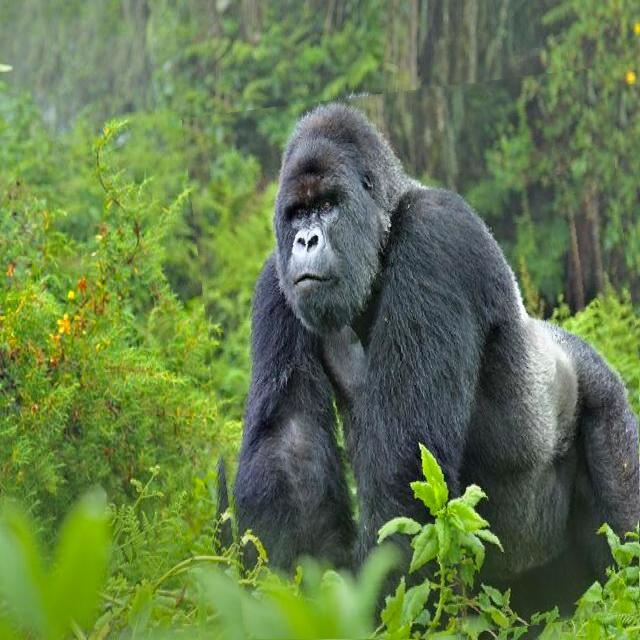gorila: (197, 79, 640, 640)
